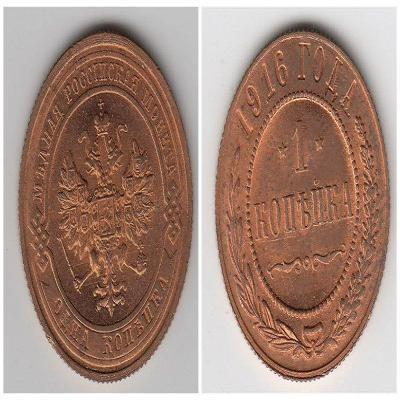numismatics: (215, 30, 392, 381), (18, 30, 192, 385)
